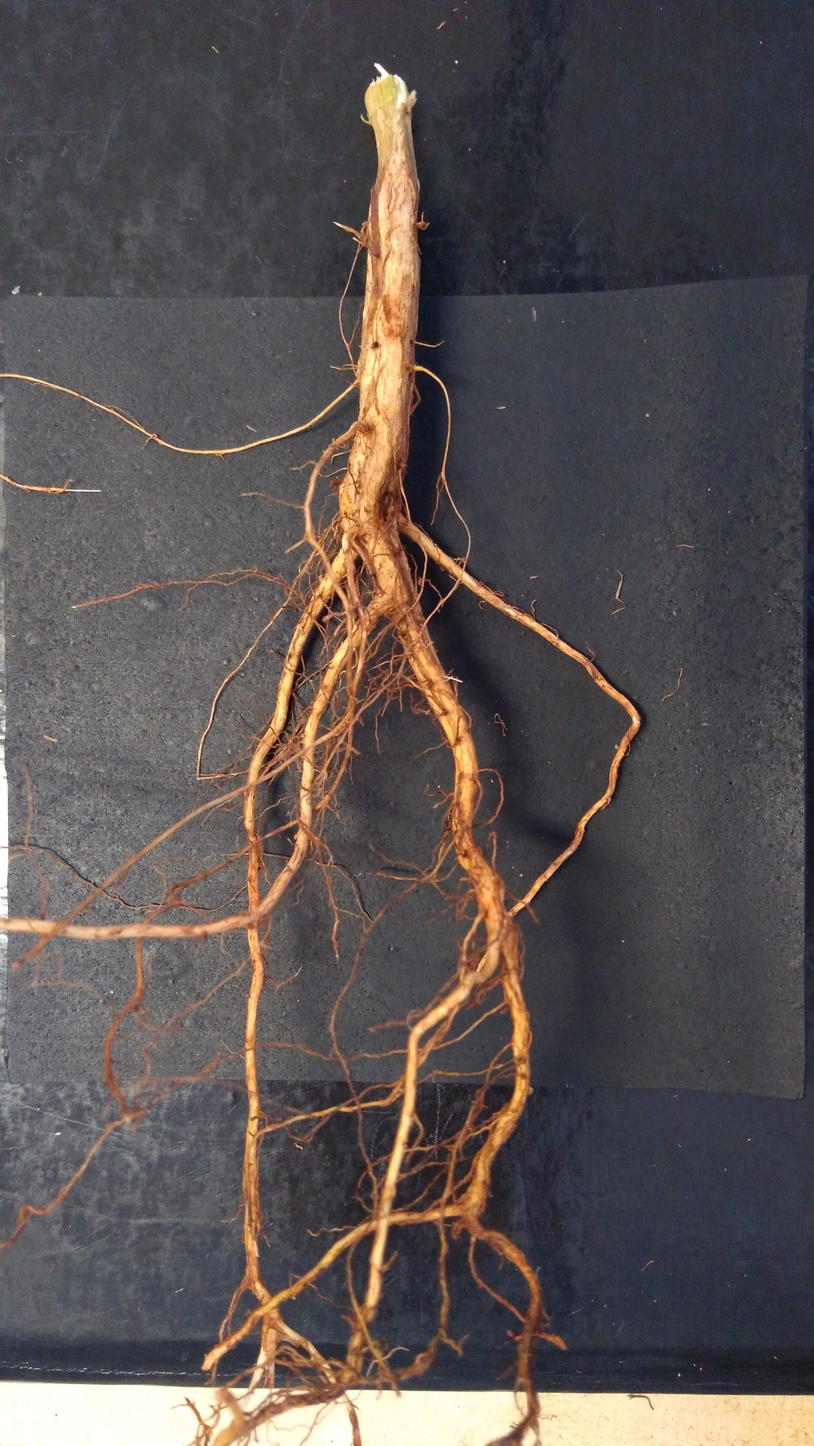nodule: (331, 523, 345, 541), (329, 477, 342, 489), (292, 742, 304, 755), (360, 226, 368, 241), (416, 221, 428, 230), (505, 1329, 513, 1337), (317, 574, 323, 583), (527, 1086, 533, 1095), (361, 221, 368, 226)
